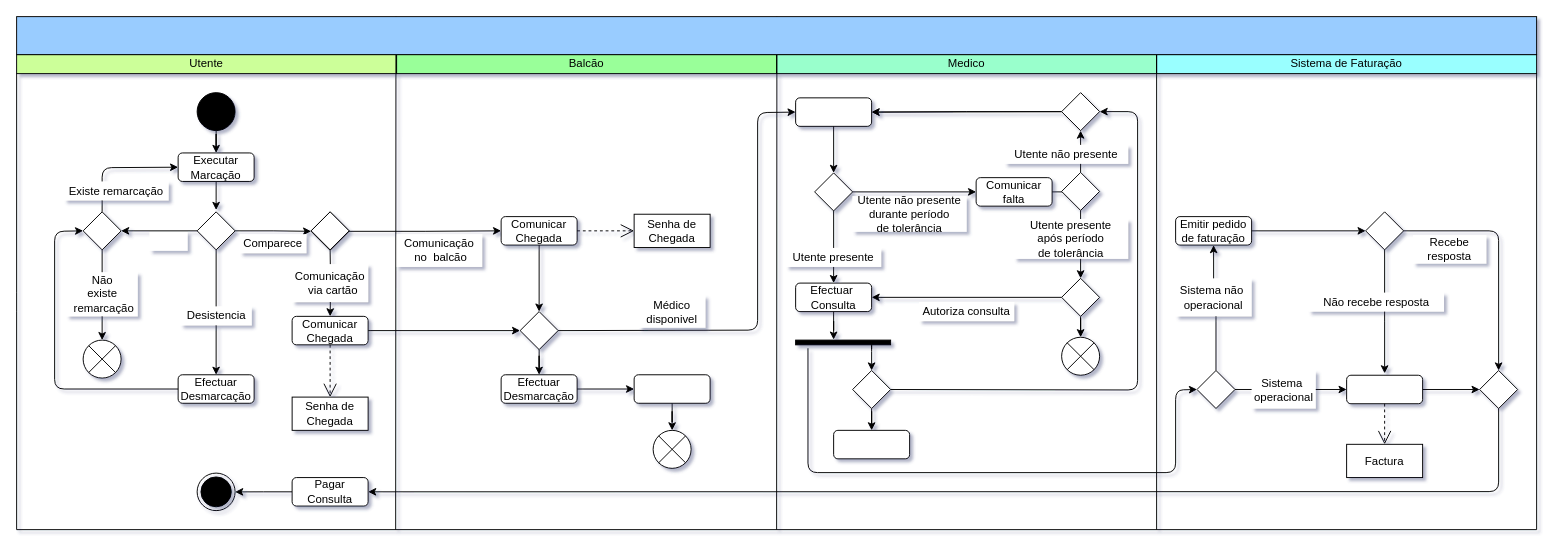
This 1560x553 diagram has some shape labels left out. The box of each missing label's shape, as (x1, y1, x2, y2) in pixels:
Aguardar remarcação: (633, 374, 710, 403)
Chamar Utente: (795, 97, 872, 126)
Facturar Consulta: (1346, 374, 1423, 404)
Falta: (149, 231, 187, 250)
Fechar Consulta: (833, 429, 910, 459)
Unidade de Consultas Externas: (16, 16, 1537, 55)
